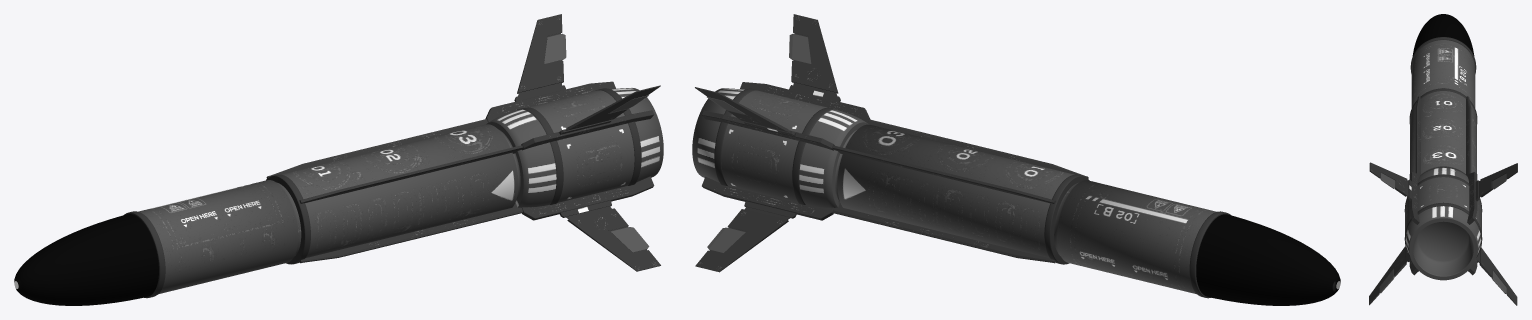
The model's file is scfi_starburst_torpedo_v2.glb.
The picture shows the model from 3 angles, left to right: view 1: azimuth 30°, elevation 25°; view 2: azimuth 150°, elevation 25°; view 3: azimuth 270°, elevation 25°; orthographic projection. The views are drawn at different scales.
Visible parts, largest first — view 1: Object_4, Object_3; view 2: Object_4, Object_3; view 3: Object_4, Object_3.
Part boxes in pixels (x1,y1,x2,y2): Object_4: (14,88,663,305); Object_3: (124,14,660,297); Object_4: (692,88,1340,305); Object_3: (695,14,1230,297); Object_4: (1404,14,1482,276); Object_3: (1369,39,1517,305).
Size of the model in its own units: 7.47 by 2.07 by 2.07.
1 material, 1 textured.
